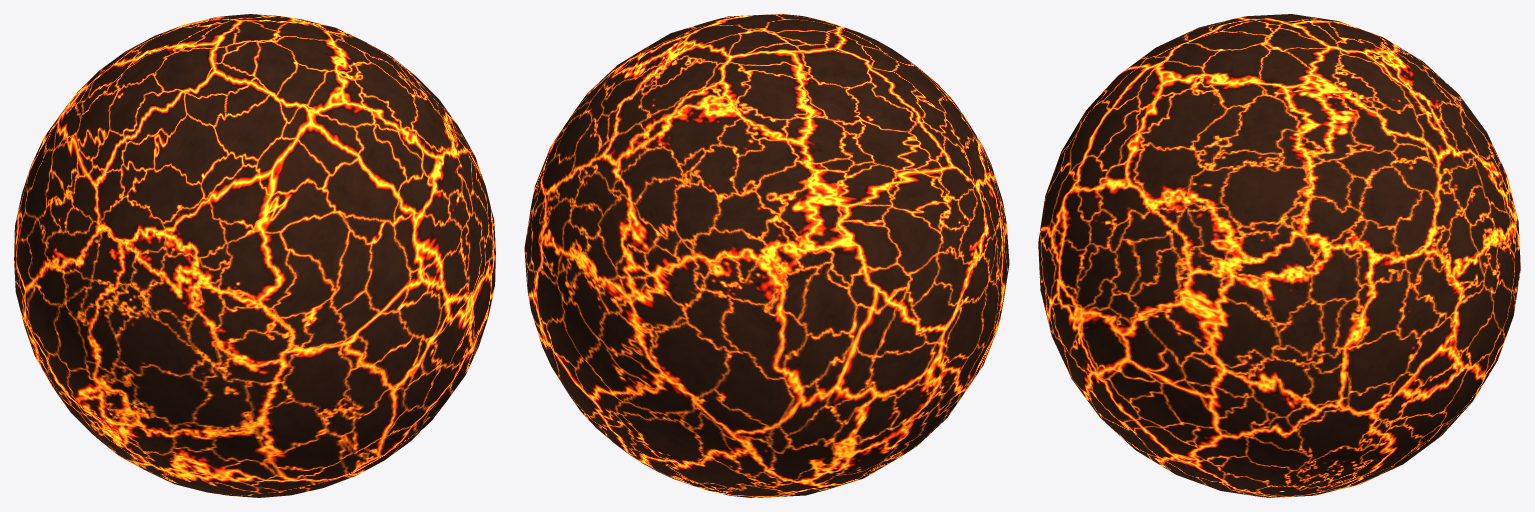
The model's file is ball_magmaCore.gltf.
The picture shows the model from 3 angles, left to right: view 1: azimuth 30°, elevation 25°; view 2: azimuth 150°, elevation 25°; view 3: azimuth 270°, elevation 25°; orthographic projection.
Parts seen in each view (by area): view 1: magmaCore; view 2: magmaCore; view 3: magmaCore.
Part boxes in pixels (x1,y1,x2,y2): magmaCore: [14, 14, 495, 497]; magmaCore: [524, 14, 1009, 497]; magmaCore: [1038, 14, 1520, 497].
Bounding box in the file's own units: 0.2499 × 0.2498 × 0.249.
1 material, 1 textured.
